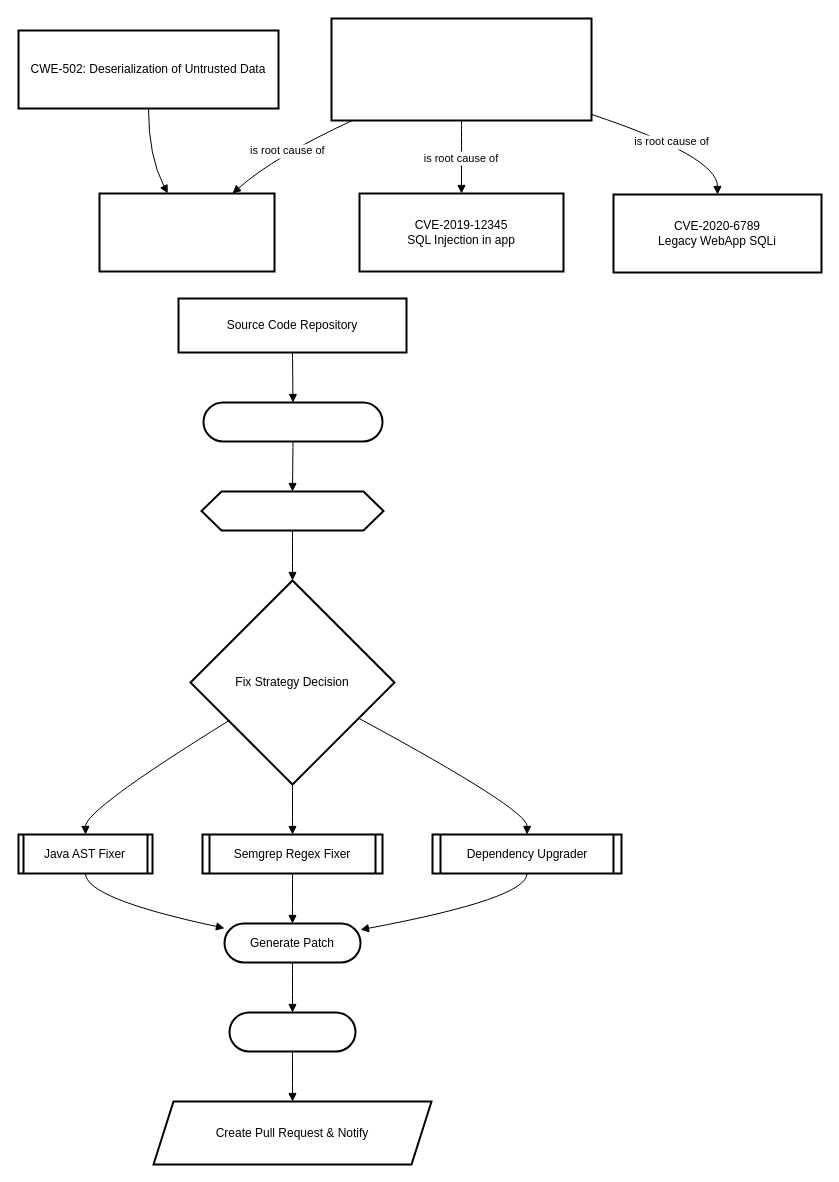
This 839x1182 diagram has some shape labels left out. Each missing label, with the box of its shape:
CVE-2022-22965 Spring4Shell: (98, 192, 275, 272)
CWE Mapping Engine: (200, 490, 384, 531)
CWE-89: Improper Neutralization of SQL Commands: (330, 17, 592, 121)
Run Unit Tests: (228, 1011, 356, 1052)
Static Analysis Engine: (202, 401, 383, 442)
